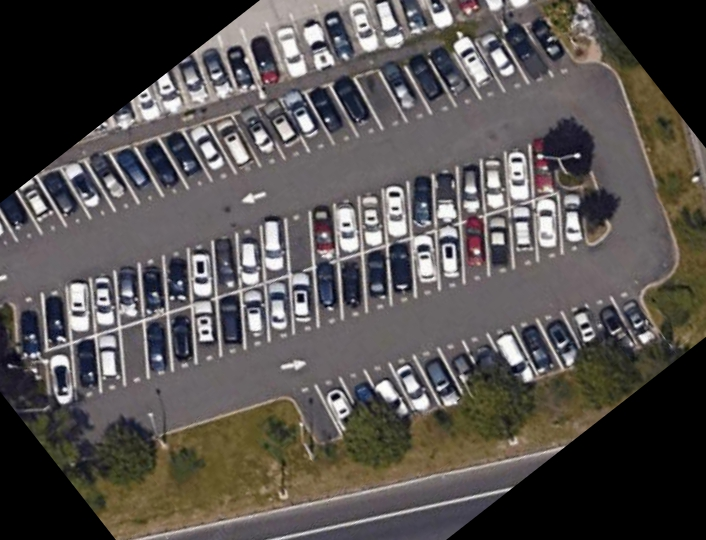parkingspot: (13, 123, 591, 416), (0, 12, 587, 252), (76, 0, 547, 145), (284, 286, 669, 448)
